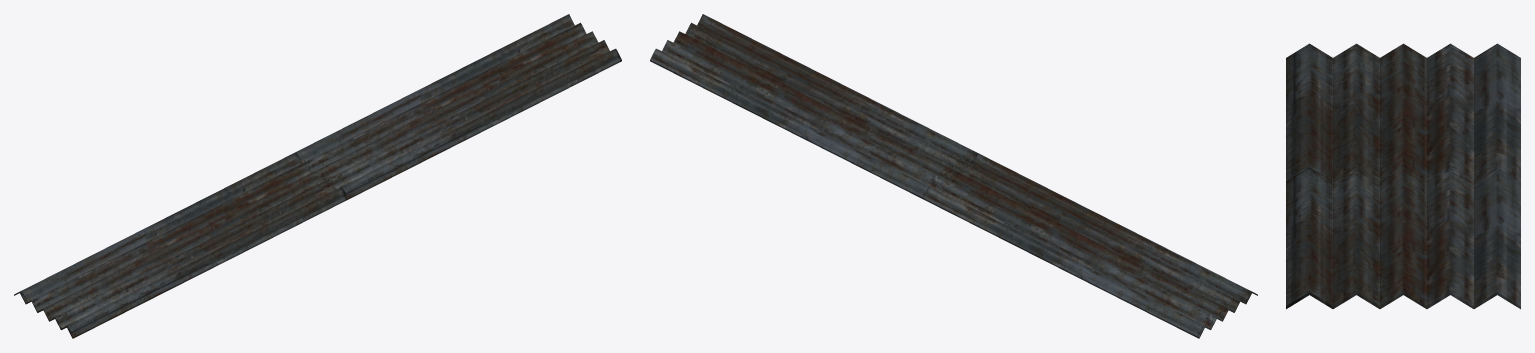
Rendered from roof_hr_3_side_2_angle_edge_1.dae.
3 renders of one model, left to right at view 1: azimuth 30°, elevation 25°; view 2: azimuth 150°, elevation 25°; view 3: azimuth 270°, elevation 25°, orthographic. The views are drawn at different scales.
Parts seen in each view (by area): view 1: roof_hr_3_side_2_angle_edge_1; view 2: roof_hr_3_side_2_angle_edge_1; view 3: roof_hr_3_side_2_angle_edge_1.
Boxes of the visible parts, x1=… form: roof_hr_3_side_2_angle_edge_1: x1=14, y1=14, x2=621, y2=338; roof_hr_3_side_2_angle_edge_1: x1=650, y1=14, x2=1257, y2=338; roof_hr_3_side_2_angle_edge_1: x1=1286, y1=43, x2=1520, y2=309.
Bounding box in the file's own units: 4 × 0.7407 × 1.06.
Materials: 1 (1 with a texture image).
